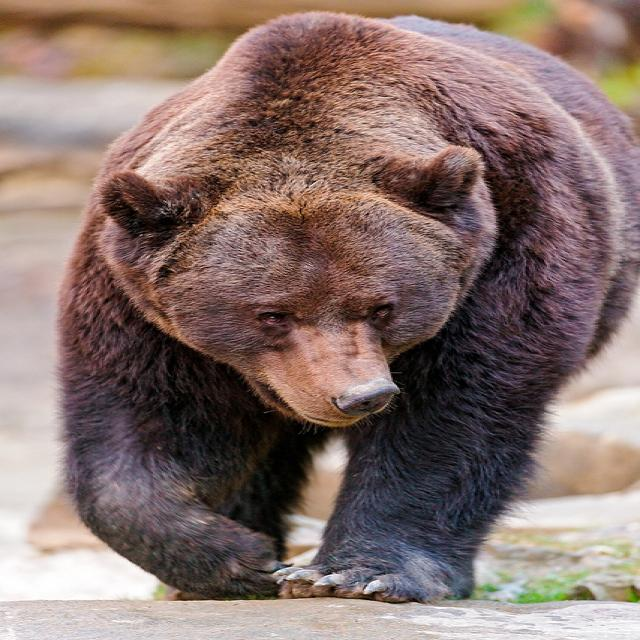Bear: (72, 2, 640, 615)
